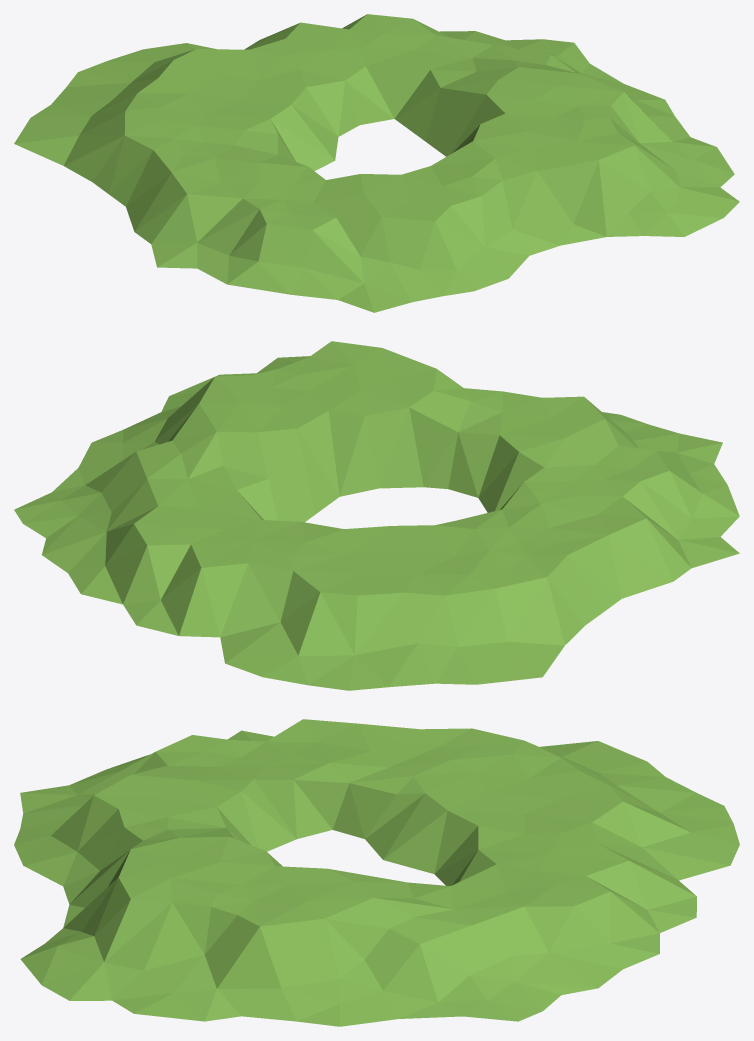
File: MT_Mountain_M_b_20.fbx
The picture shows the model from 3 angles, top to bottom: view 1: azimuth 30°, elevation 25°; view 2: azimuth 150°, elevation 25°; view 3: azimuth 270°, elevation 25°; orthographic projection. The views are drawn at different scales.
Parts seen in each view (by area): view 1: MT_Mountain_M_b_20; view 2: MT_Mountain_M_b_20; view 3: MT_Mountain_M_b_20.
Boxes of the visible parts, box(x1,y1,x2,y2) form: MT_Mountain_M_b_20: box(14, 14, 739, 312); MT_Mountain_M_b_20: box(14, 341, 739, 690); MT_Mountain_M_b_20: box(14, 719, 739, 1026).
Size of the model in its own units: 4453 by 427 by 4611.
